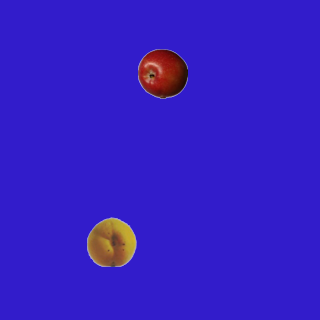Apple Braeburn: (137, 48, 187, 98)
Peach 2: (86, 216, 136, 266)
